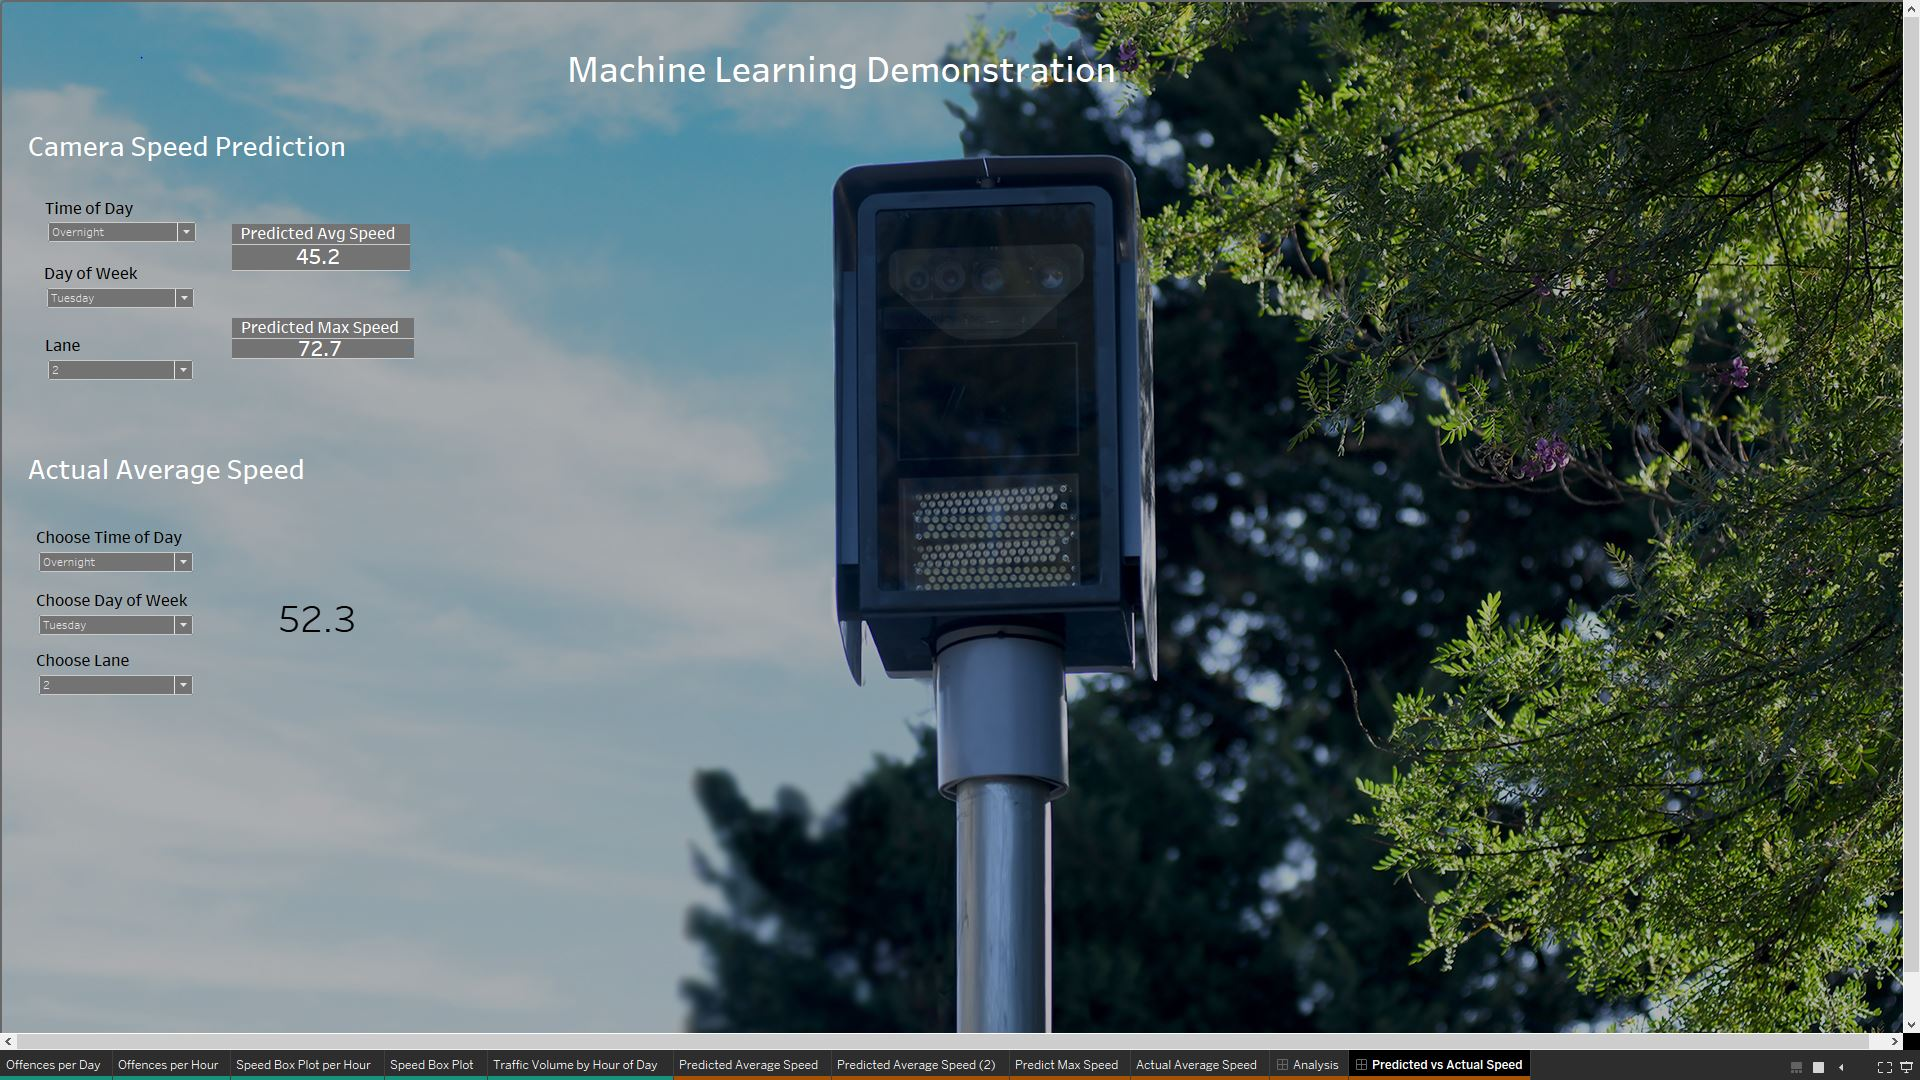

What the dashboard file says about the page in this screenshot:
{"tool":"tableau","page":{"name":"Predicted vs Actual Speed","canvas":[1920,1080],"ordinal":1},"visuals":[{"type":"image","param":"C:/Users/aleja/Downloads/Halo.jpg","box":[0,0,1920,1080]},{"type":"text","box":[2,39,1679,57]},{"type":"text","box":[25,104,332,82]},{"type":"parameter","param":"[Parameters].[Lane (copy)_1479151031219625985]","box":[45,197,154,47]},{"type":"worksheet","title":"Predicted Average Speed","mark":"Automatic","rows":["Calculation_1479151031221379075"],"box":[232,224,209,82]},{"type":"parameter","param":"[Parameters].[Time of Day (copy)_1479151031220015106]","box":[44,262,153,62]},{"type":"worksheet","title":"Predict Max Speed","mark":"Automatic","box":[232,318,204,71]},{"type":"parameter","param":"[Parameters].[Parameter 1]","box":[45,334,151,50]},{"type":"text","box":[25,436,292,64]},{"type":"parameter","param":"[Parameters].[Time of Day Parameter]","box":[36,526,160,49]},{"type":"worksheet","title":"Actual Average Speed","mark":"Automatic","box":[226,570,134,95]},{"type":"parameter","param":"[Parameters].[Parameter 2]","box":[36,589,160,49]},{"type":"parameter","param":"[Parameters].[Lane Parameter]","box":[36,649,160,49]}]}

Visuals, with their boxes on the page's 1920x1080 design canvas (x1, y1, x2, y2). These are canvas units, not pixel positions in the 1920x1080 screenshot, which may show the page scaled, cropped or inside an application window:
image: <region>0, 0, 1920, 1080</region>
text: <region>2, 39, 1681, 96</region>
text: <region>25, 104, 357, 186</region>
parameter: <region>45, 197, 199, 244</region>
"Predicted Average Speed" worksheet: <region>232, 224, 441, 306</region>
parameter: <region>44, 262, 197, 324</region>
"Predict Max Speed" worksheet: <region>232, 318, 436, 389</region>
parameter: <region>45, 334, 196, 384</region>
text: <region>25, 436, 317, 500</region>
parameter: <region>36, 526, 196, 575</region>
"Actual Average Speed" worksheet: <region>226, 570, 360, 665</region>
parameter: <region>36, 589, 196, 638</region>
parameter: <region>36, 649, 196, 698</region>
